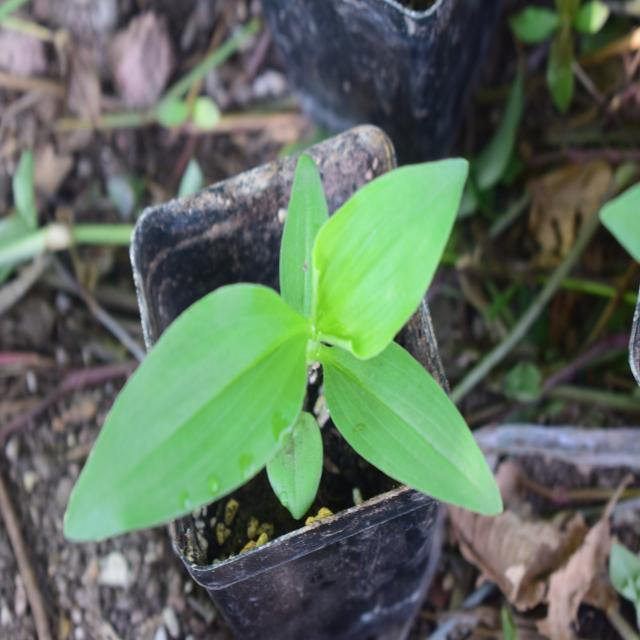Common Dayflower: (4, 163, 519, 513)
